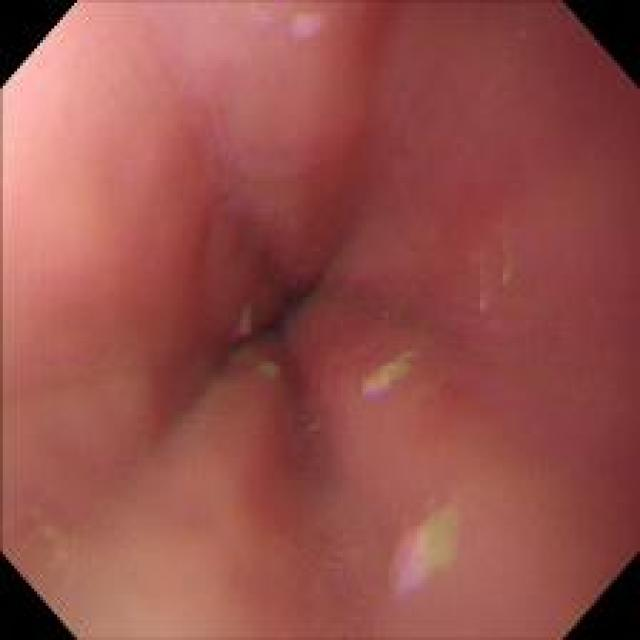color misalignment: (388, 521, 464, 594), (228, 306, 284, 376), (365, 352, 411, 391), (474, 269, 511, 308), (286, 5, 321, 42)
